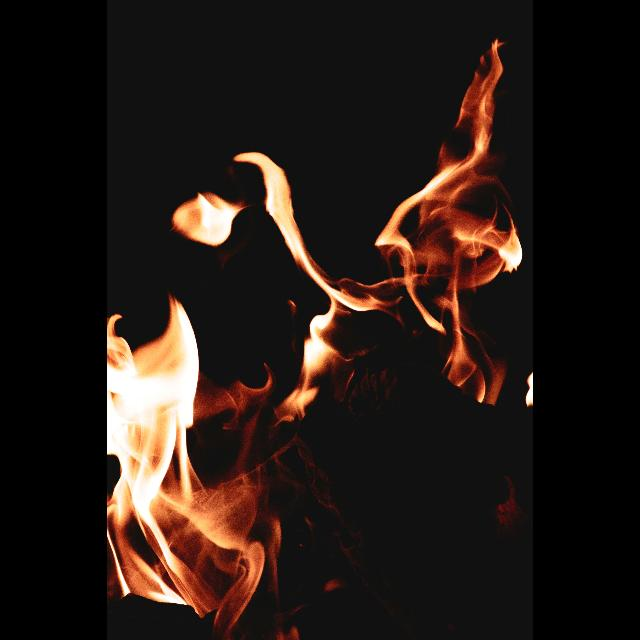fire: (107, 48, 531, 640)
